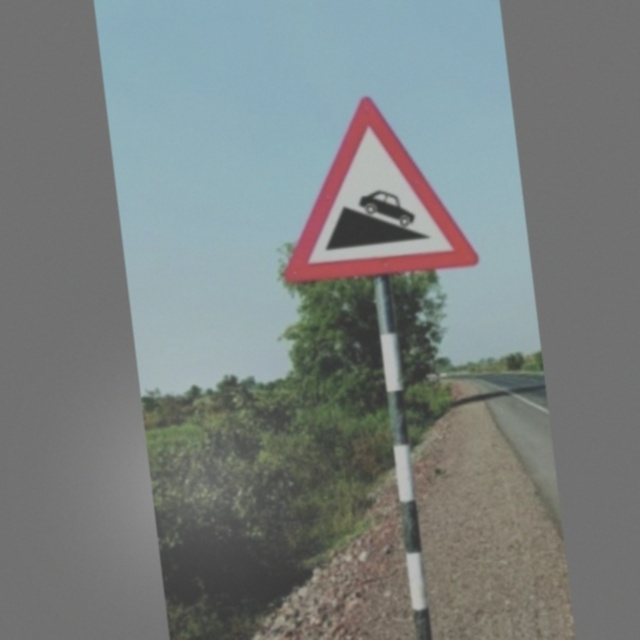Steep_Descent: (269, 85, 479, 291)
